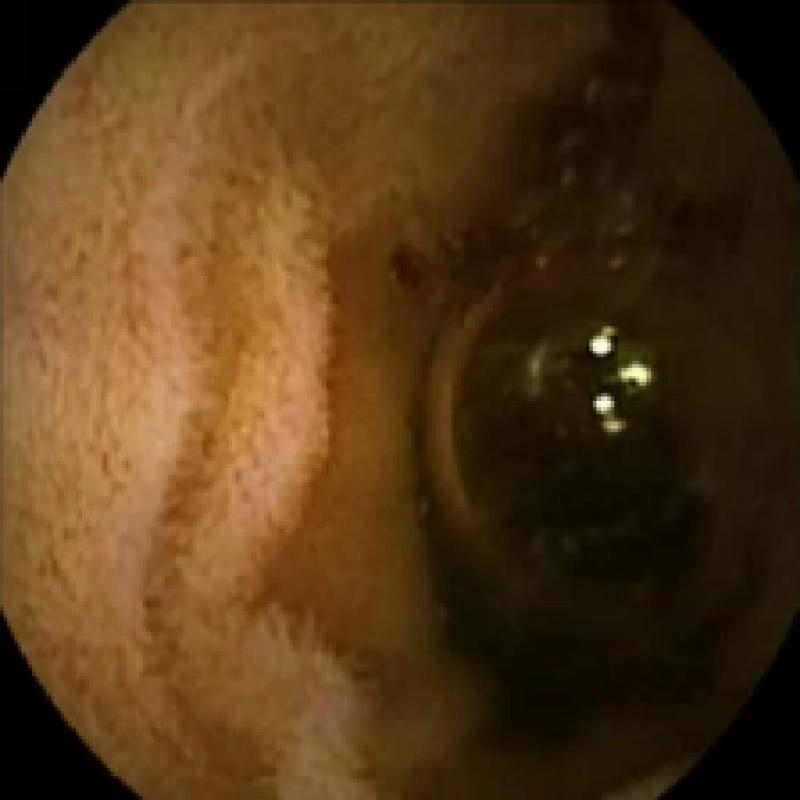bleeding: (379, 0, 764, 311)
